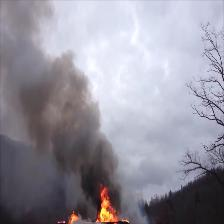fire: (101, 189, 112, 222)
smoke: (10, 59, 81, 117), (61, 148, 114, 173), (34, 124, 103, 143), (82, 176, 117, 188)
